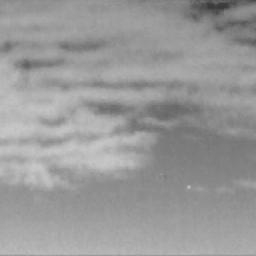Target: (185, 184, 192, 191)
